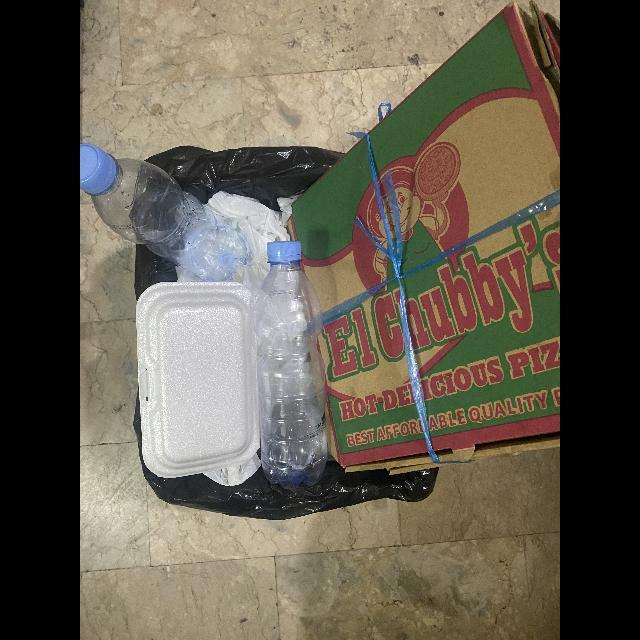paper: (286, 0, 560, 475)
plastic: (80, 143, 250, 282), (252, 240, 328, 490), (204, 191, 303, 297), (203, 452, 261, 486)
styrofoam: (136, 282, 261, 478)
